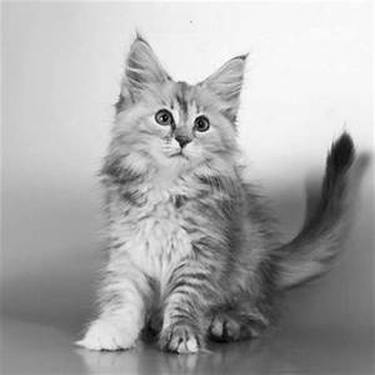cat: (61, 34, 355, 355)
